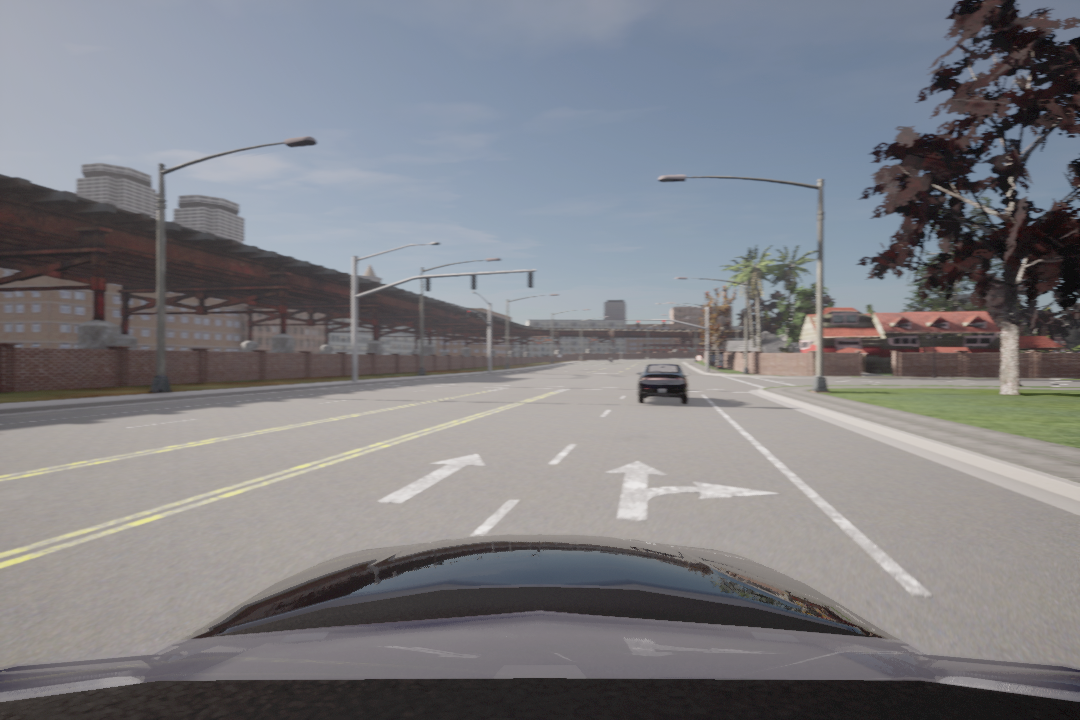RoadSign_forward: (380, 448, 486, 511)
RoadSign_forward_right: (593, 460, 781, 532)
